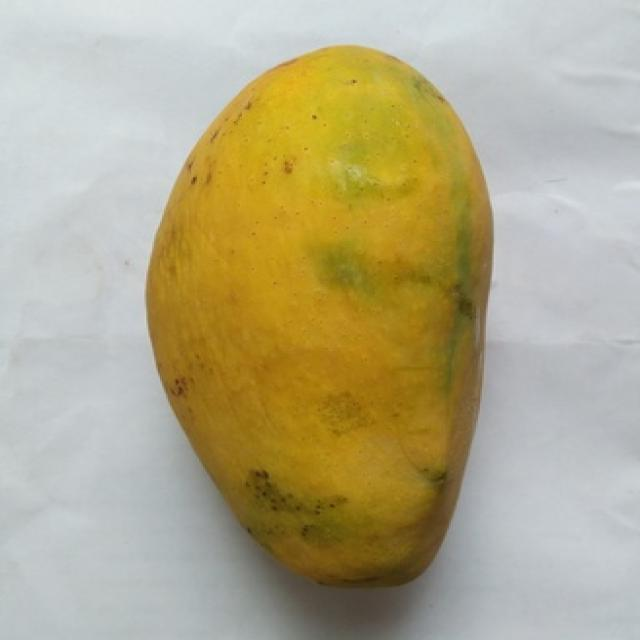Mango: (148, 46, 492, 583)
